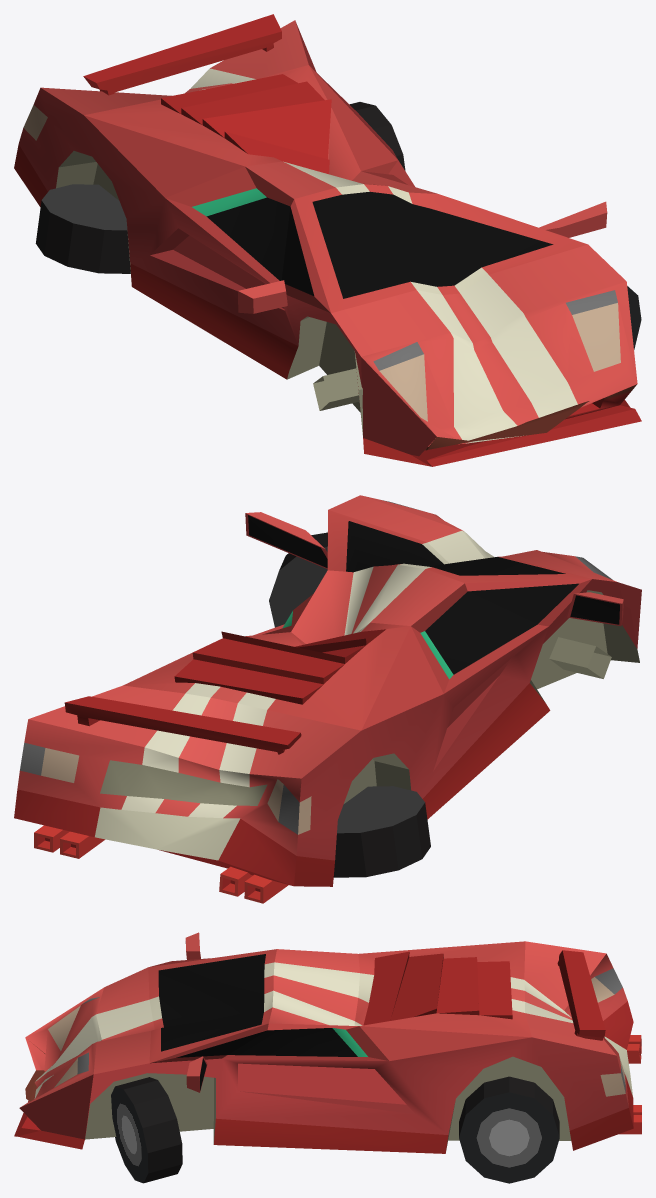
File: WreckedCar3.fbx
3 renders of one model, top to bottom at view 1: azimuth 30°, elevation 25°; view 2: azimuth 150°, elevation 25°; view 3: azimuth 270°, elevation 25°, orthographic. The views are drawn at different scales.
Parts seen in each view (by area): view 1: SR_Veh_SuperSports_Blue, SR_Veh_SuperSports_Wheel_RR, SR_Veh_SuperSports_Wheel_RL; view 2: SR_Veh_SuperSports_Blue, SR_Veh_SuperSports_Wheel_RR, SR_Veh_SuperSports_Wheel_FL; view 3: SR_Veh_SuperSports_Blue, SR_Veh_SuperSports_Wheel_RL, SR_Veh_SuperSports_Wheel_FL.
Boxes of the visible parts, bbox=[...] form: SR_Veh_SuperSports_Blue: bbox=[14, 14, 641, 466]; SR_Veh_SuperSports_Wheel_RR: bbox=[35, 184, 130, 273]; SR_Veh_SuperSports_Wheel_RL: bbox=[349, 102, 405, 170]; SR_Veh_SuperSports_Blue: bbox=[14, 495, 641, 903]; SR_Veh_SuperSports_Wheel_RR: bbox=[333, 786, 430, 877]; SR_Veh_SuperSports_Wheel_FL: bbox=[269, 532, 327, 627]; SR_Veh_SuperSports_Blue: bbox=[14, 932, 641, 1153]; SR_Veh_SuperSports_Wheel_RL: bbox=[459, 1076, 559, 1183]; SR_Veh_SuperSports_Wheel_FL: bbox=[111, 1077, 182, 1183].
Bounding box in the file's own units: 391 × 190 × 718.
Materials: 1 (1 with a texture image).
